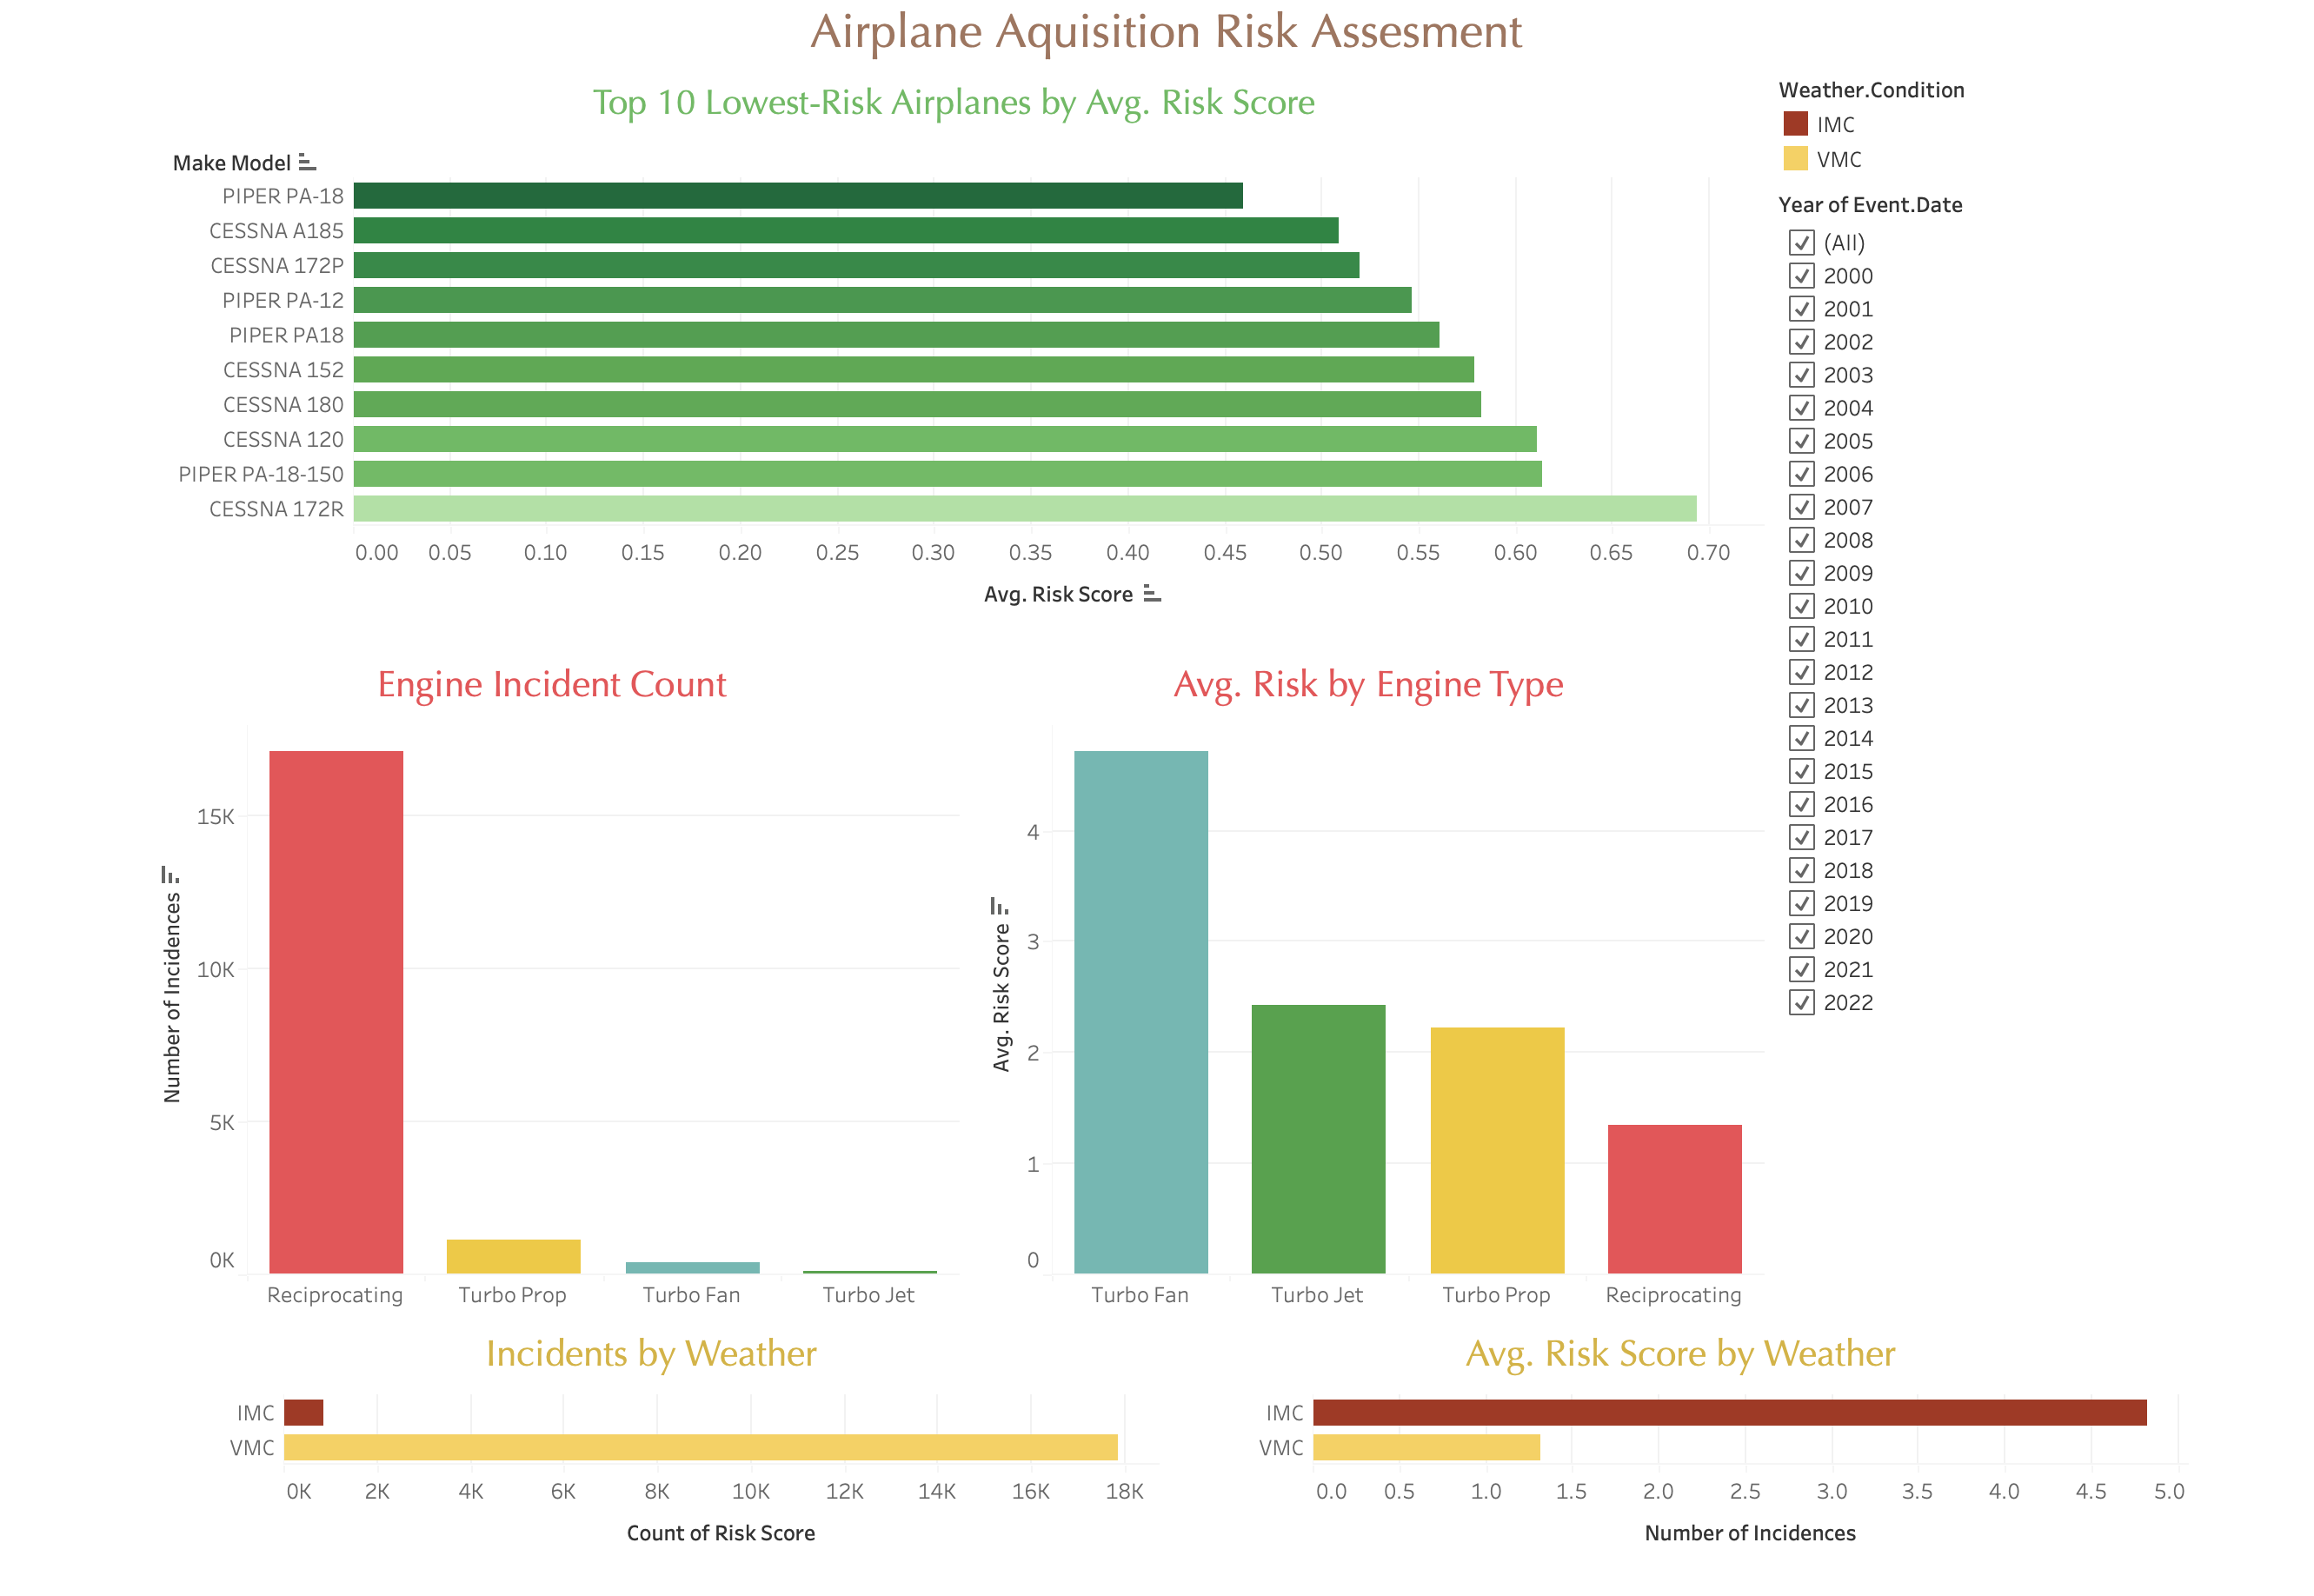

This screenshot's page, from the dashboard's own definition file:
{"tool":"tableau","page":{"name":"Dashboard 1","canvas":[1200,1000],"ordinal":0},"visuals":[{"type":"title","box":[8,8,1184,41]},{"type":"worksheet","title":"Low Risk Airplane","mark":"Automatic","rows":["Make_Model"],"cols":["Risk_Score"],"box":[8,49,940,334]},{"type":"legend","title":"Incidents by Weather","param":"[federated.0v88jxn1x1zpyx10tlaa619p9qxj].[none:Weather.Condition:nk]","box":[948,49,244,66]},{"type":"filter","title":"Engine Incident Count","param":"[federated.0v88jxn1x1zpyx10tlaa619p9qxj].[yr:Event.Date:ok]","box":[948,115,244,488]},{"type":"worksheet","title":"Engine Incident Count","mark":"Automatic","rows":["cleaned_aviation_data.csv_A6A3F9A7CE7542A08DE6F807E7E7DE4E"],"cols":["Engine.Type"],"box":[8,383,477,385]},{"type":"worksheet","title":"Avg. Risk by Engine Type","mark":"Automatic","rows":["Risk_Score"],"cols":["Engine.Type"],"box":[485,383,463,385]},{"type":"worksheet","title":"Incidents by Weather","mark":"Automatic","rows":["Weather.Condition"],"cols":["Risk_Score"],"box":[8,768,592,224]},{"type":"worksheet","title":"Risk by Weather","mark":"Automatic","rows":["Weather.Condition"],"cols":["Risk_Score"],"box":[600,768,592,224]}]}

Visuals, with their boxes on the page's 1200x1000 design canvas (x1, y1, x2, y2). These are canvas units, not pixel positions in the 2314x1596 screenshot, which may show the page scaled, cropped or inside an application window:
title: box=[8, 8, 1192, 49]
"Low Risk Airplane" worksheet: box=[8, 49, 948, 383]
"Incidents by Weather" legend: box=[948, 49, 1192, 115]
"Engine Incident Count" filter: box=[948, 115, 1192, 603]
"Engine Incident Count" worksheet: box=[8, 383, 485, 768]
"Avg. Risk by Engine Type" worksheet: box=[485, 383, 948, 768]
"Incidents by Weather" worksheet: box=[8, 768, 600, 992]
"Risk by Weather" worksheet: box=[600, 768, 1192, 992]
